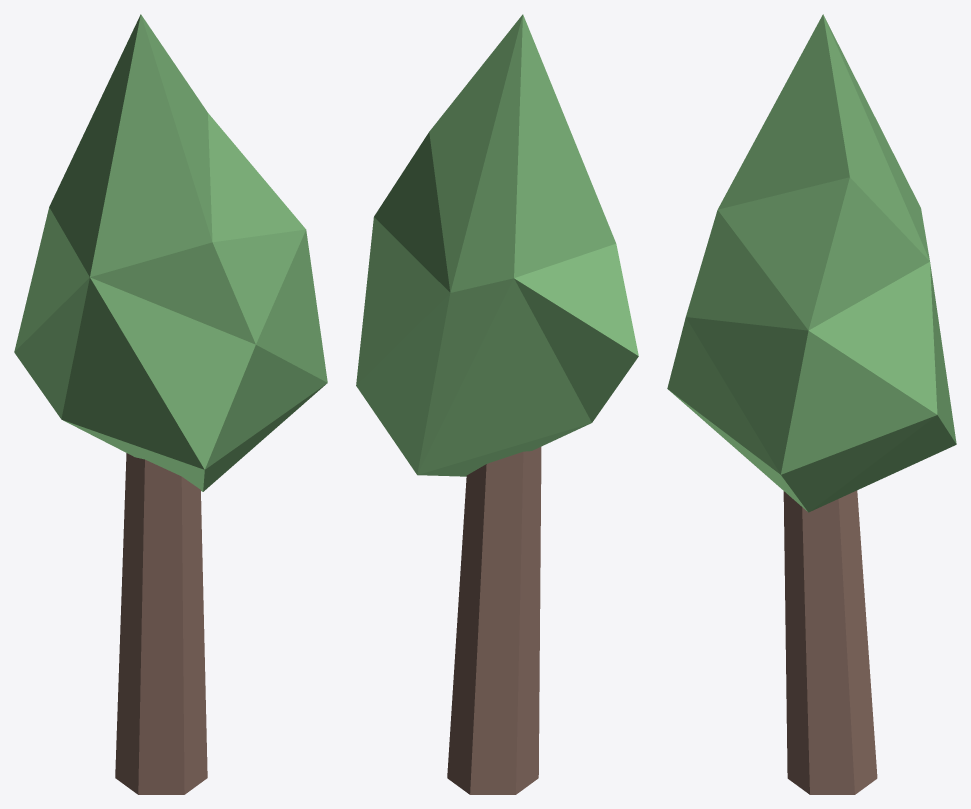
Rendered from low_poly_tree.fbx.
3 renders of one model, left to right at view 1: azimuth 30°, elevation 25°; view 2: azimuth 150°, elevation 25°; view 3: azimuth 270°, elevation 25°, orthographic. The views are drawn at different scales.
Parts seen in each view (by area): view 1: Tree; view 2: Tree; view 3: Tree.
Boxes of the visible parts, <box> form: Tree: <box>14,14,327,794</box>; Tree: <box>356,14,638,794</box>; Tree: <box>667,14,956,794</box>.
Size of the model in its own units: 174 by 448 by 156.
